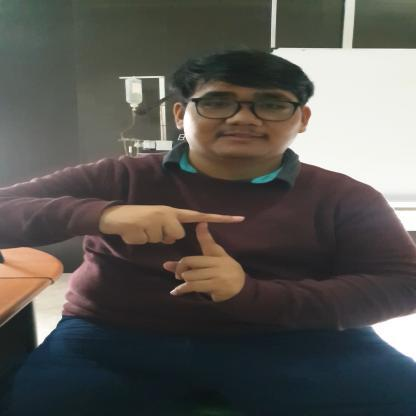T: (109, 204, 249, 301)
